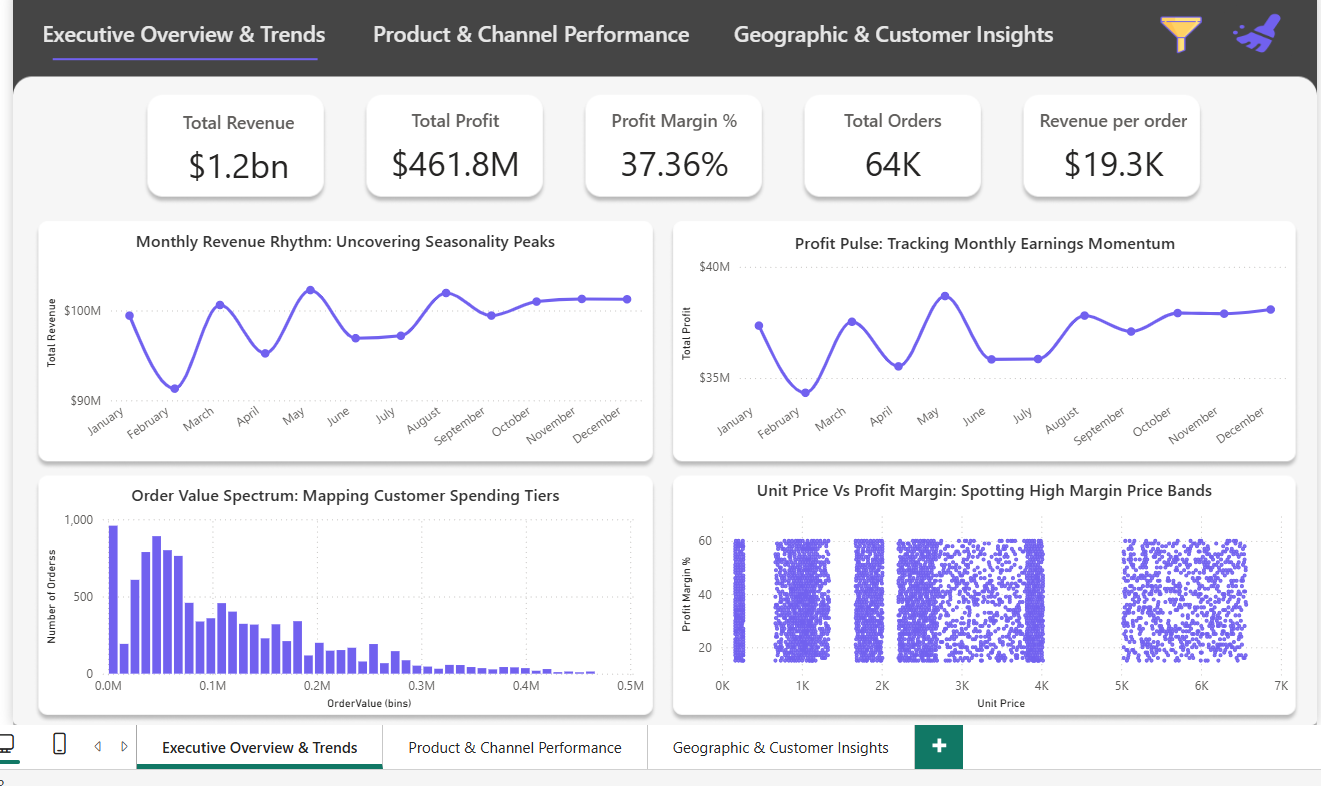

What the dashboard file says about the page in this screenshot:
{"tool":"powerbi","page":{"name":"Executive Overview & Trends","canvas":[1280,720],"ordinal":0},"visuals":[{"type":"cardVisual","fields":{"Data":["Measures_.Total Revenue"]},"box":[142,101,158,104],"z":0},{"type":"cardVisual","fields":{"Data":["Measures_.Total Profit"]},"box":[350,100,169.2,103.8],"z":1000},{"type":"cardVisual","fields":{"Data":["Measures_.Profit Margin %"]},"box":[552.6,100,194.9,103.8],"z":2000},{"type":"cardVisual","fields":{"Data":["Measures_.Total Orders"]},"box":[787.2,100,152.6,103.8],"z":3000},{"type":"cardVisual","fields":{"Data":["Measures_.Revenue per order"]},"box":[988.3,100,185,103.3],"z":4000},{"type":"lineChart","title":"Monthly Revenue Rhythm: Uncovering Seasonality Peaks","fields":{"Category":["Sales_data.order_month_name"],"Y":["Measures_.Total Revenue"]},"box":[26.9,233.3,598.7,235.9],"z":5000},{"type":"lineChart","title":"Profit Pulse: Tracking Monthly Earnings Momentum","fields":{"Category":["Sales_data.order_month_name"],"Y":["Measures_.Total Profit"]},"box":[650,234.6,607.7,234.6],"z":6000},{"type":"scatterChart","title":"Unit Price Vs Profit Margin: Spotting High Margin Price Bands","fields":{"X":["Sales_data.unit_price"],"Y":["Sales_data.profit_margin_pct"]},"box":[650,476.9,606.4,232.1],"z":7000},{"type":"columnChart","title":"Order Value Spectrum: Mapping Customer Spending Tiers","fields":{"Category":["Order_Value_Distribution.OrderValue (bins)"],"Y":["CountNonNull(Order_Value_Distribution.order_number)"]},"box":[26.9,482.1,598.7,226.9],"z":8000},{"type":"actionButton","box":[337.2,14.1,342.3,55.1],"z":10000},{"type":"actionButton","box":[9,14.1,317.9,55.1],"z":11000},{"type":"actionButton","box":[693.8,13.8,342.5,55],"z":12000},{"type":"actionButton","box":[1188,14,70,55],"z":14000},{"type":"actionButton","box":[1120,21,53,42],"z":14500}]}

Visuals, with their boxes on the page's 1280x720 design canvas (x1, y1, x2, y2). These are canvas units, not pixel positions in the 1321x786 screenshot, which may show the page scaled, cropped or inside an application window:
cardVisual - Measures_.Total Revenue: 142:101:300:205
cardVisual - Measures_.Total Profit: 350:100:519:204
cardVisual - Measures_.Profit Margin %: 553:100:748:204
cardVisual - Measures_.Total Orders: 787:100:940:204
cardVisual - Measures_.Revenue per order: 988:100:1173:203
"Monthly Revenue Rhythm: Uncovering Seasonality Peaks" lineChart: 27:233:626:469
"Profit Pulse: Tracking Monthly Earnings Momentum" lineChart: 650:235:1258:469
"Unit Price Vs Profit Margin: Spotting High Margin Price Bands" scatterChart: 650:477:1256:709
"Order Value Spectrum: Mapping Customer Spending Tiers" columnChart: 27:482:626:709
actionButton: 337:14:680:69
actionButton: 9:14:327:69
actionButton: 694:14:1036:69
actionButton: 1188:14:1258:69
actionButton: 1120:21:1173:63
